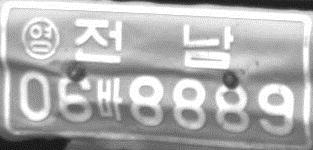0: (18, 70, 51, 122)
6: (57, 74, 92, 124)
8: (128, 73, 164, 127), (171, 76, 206, 129), (214, 82, 250, 133)
9: (257, 82, 294, 136)
바: (95, 75, 124, 124)
영: (20, 16, 59, 59)
전남_D: (72, 16, 232, 69)
